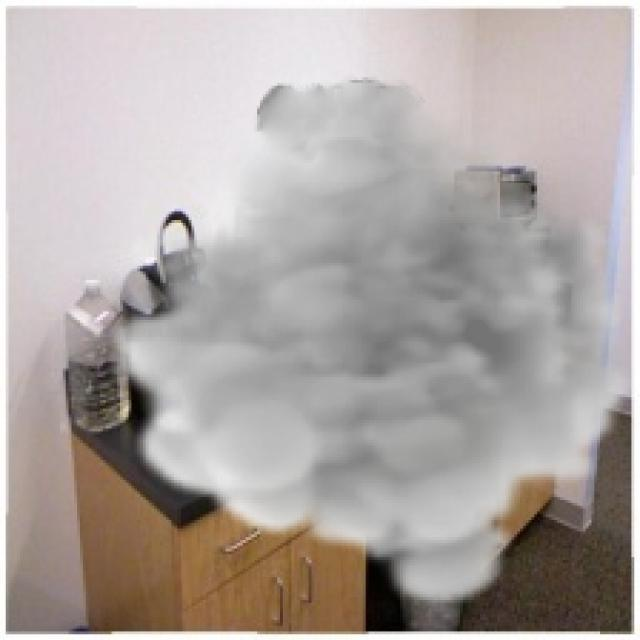Smoke: (106, 75, 634, 614)
